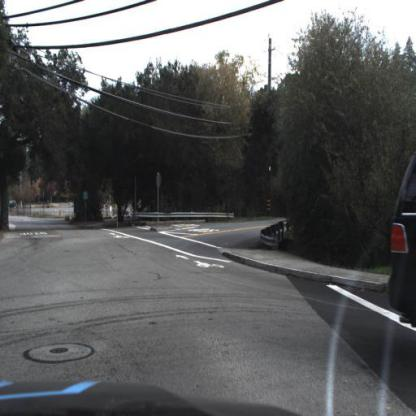car: (389, 146, 416, 336)
